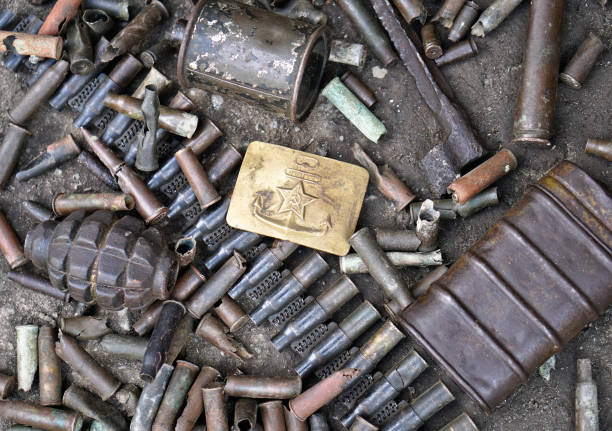e1: (22, 211, 179, 316)
